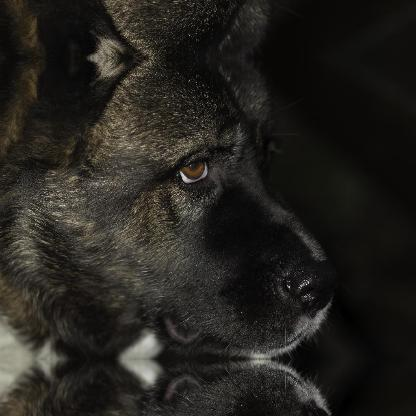Dog: (0, 56, 335, 358)
